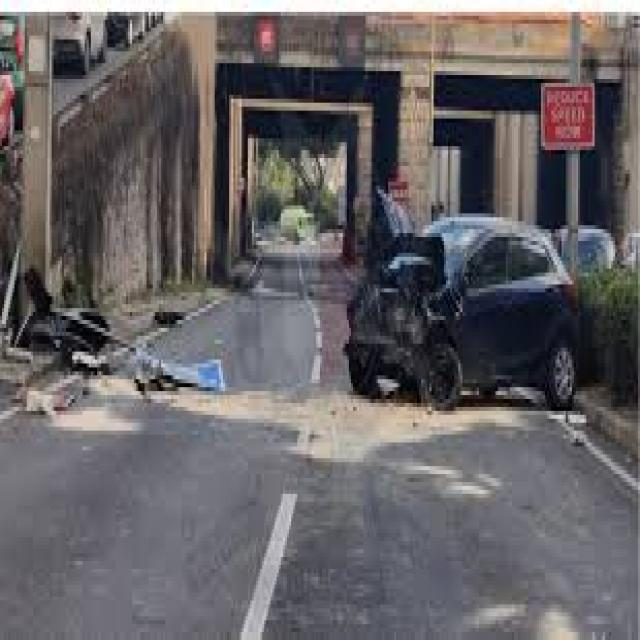accident: (327, 180, 595, 425)
